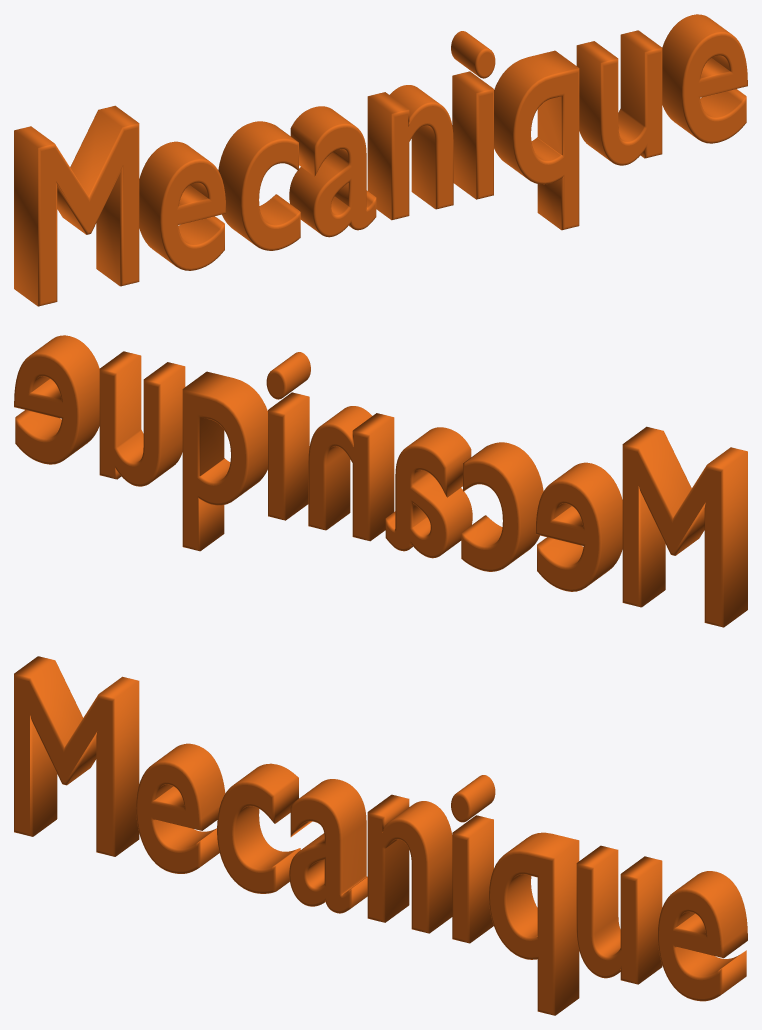
3 views of the same model, one above another, from view 1: azimuth 30°, elevation 25°; view 2: azimuth 150°, elevation 25°; view 3: azimuth 330°, elevation 25° (orthographic).
Parts seen in each view (by area): view 1: Text; view 2: Text; view 3: Text.
Boxes of the visible parts, left/top/right/bottom form: Text: left=14, top=14, right=747, bottom=306; Text: left=14, top=335, right=747, bottom=627; Text: left=14, top=656, right=747, bottom=1015.
Bounding box in the file's own units: 6.97 × 1.97 × 0.44.
